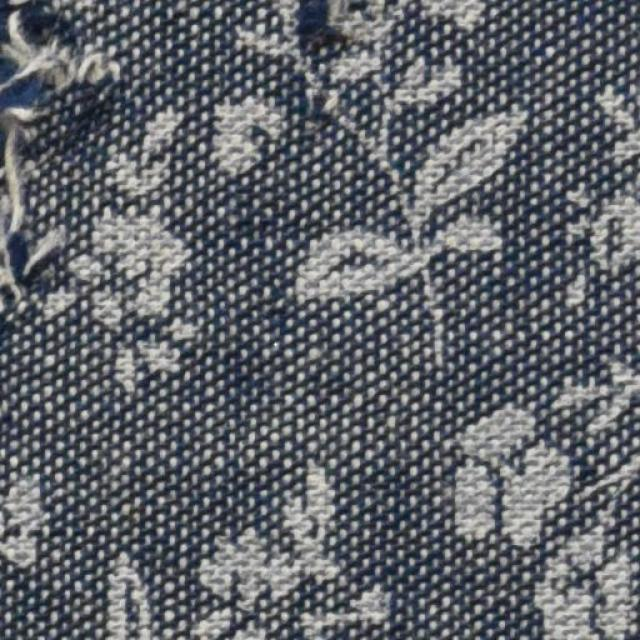Hole: (0, 39, 46, 116)
Snag: (2, 0, 127, 307), (277, 6, 342, 70)
